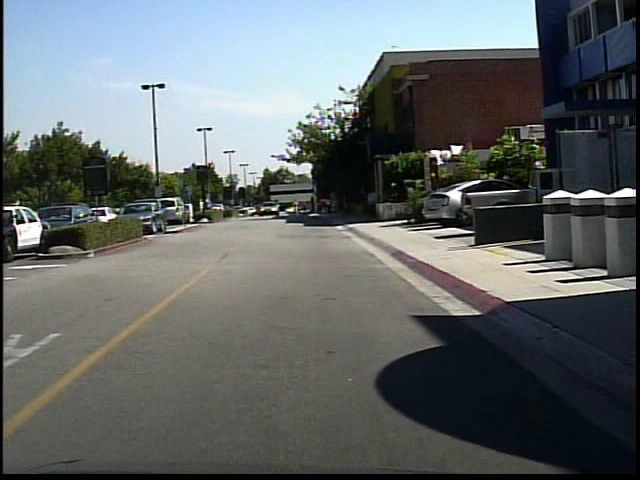person: (195, 191, 211, 219), (291, 195, 306, 221)
